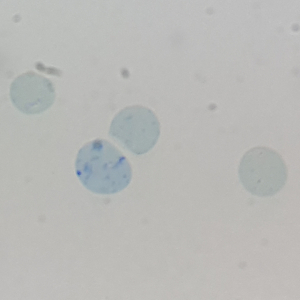aggregate reticulocyte: (73, 137, 134, 197)
erythrocyte: (8, 70, 56, 117)
punctate reticulocyte: (107, 104, 162, 157), (237, 145, 289, 199)
